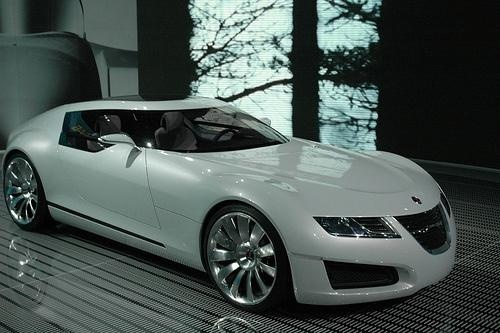car: (2, 93, 458, 312)
